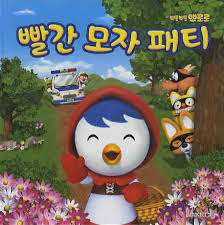Petty: (59, 88, 160, 222)
